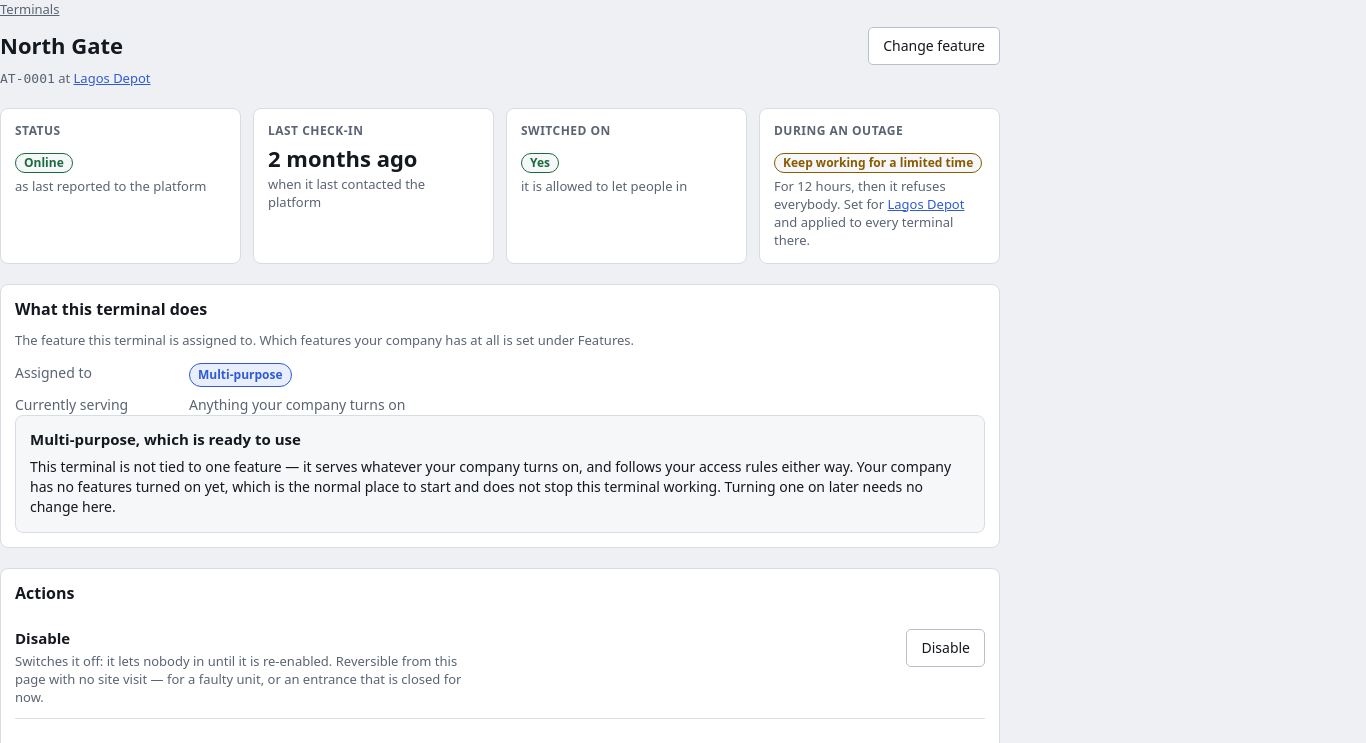
disable, revoke and retire are presented as different operations › says the credential SURVIVES a disable
Expected: the heading "Actions" is shown, [15, 582, 74, 604]
Click the button "Disable": [946, 648] box [906, 629, 985, 667]
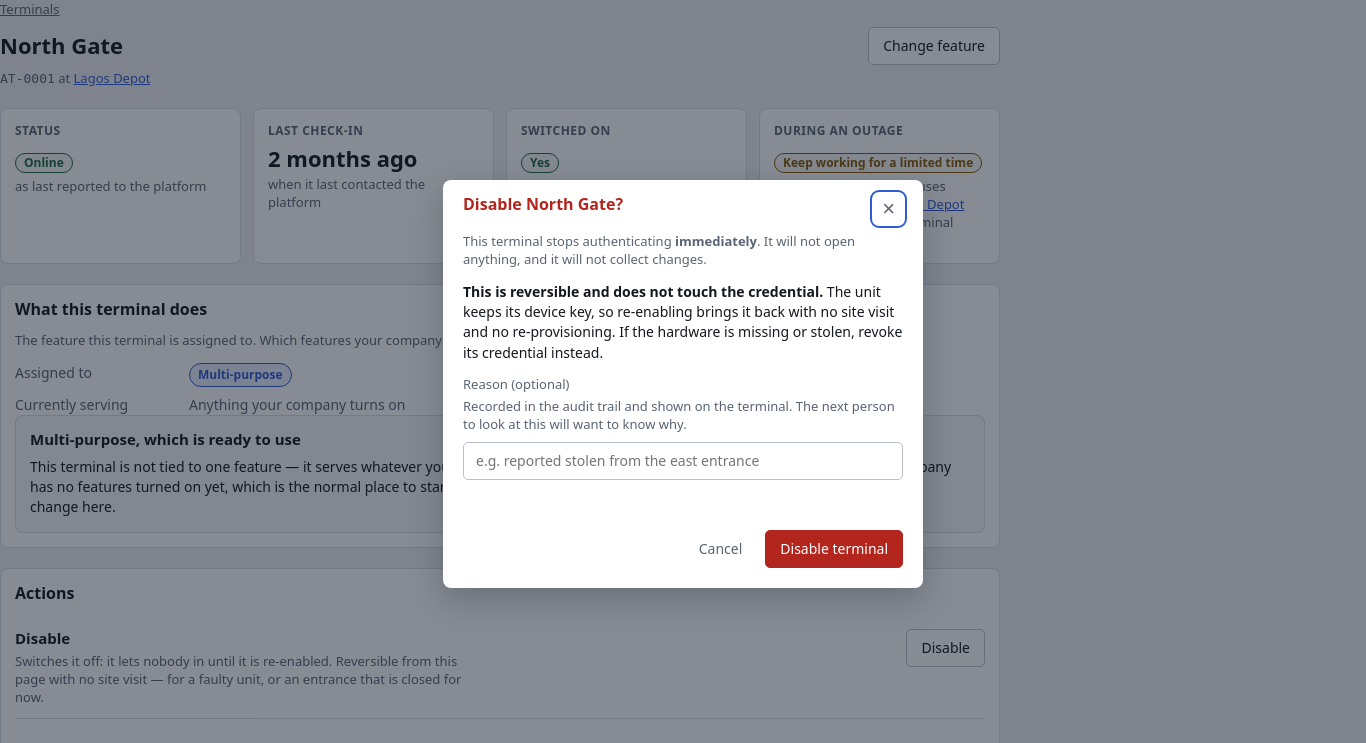
Result: the text "This is reversible and does not touch the credential." is shown at [463, 282, 823, 301]
Result: the text "no site visit" is shown at [463, 282, 902, 362]
